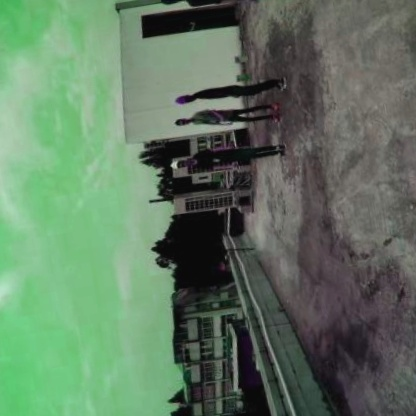red: (165, 91, 196, 109)
white: (168, 159, 182, 171)
